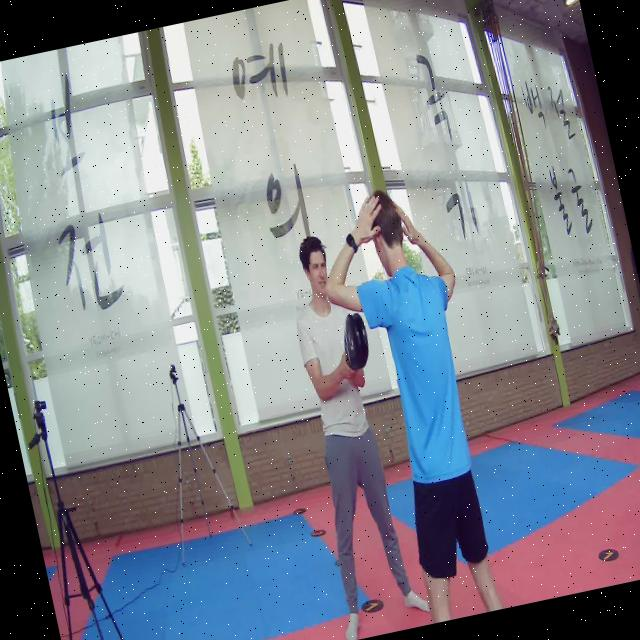paddle: (344, 311, 368, 369)
